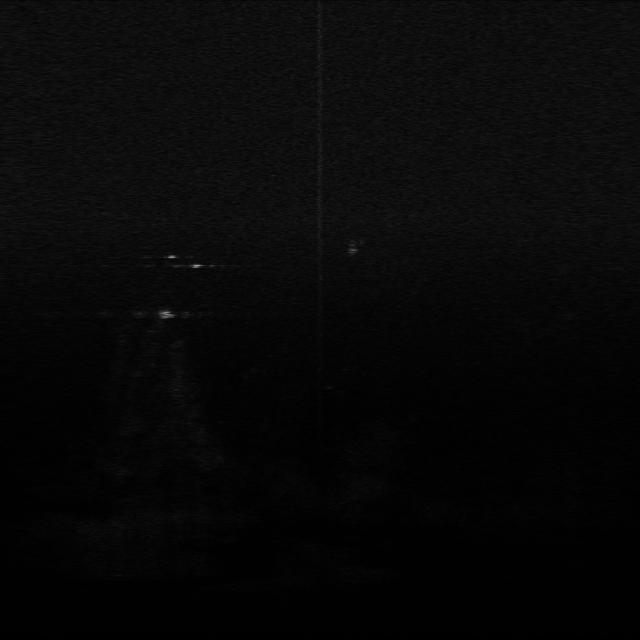rov: (156, 308, 176, 321)
